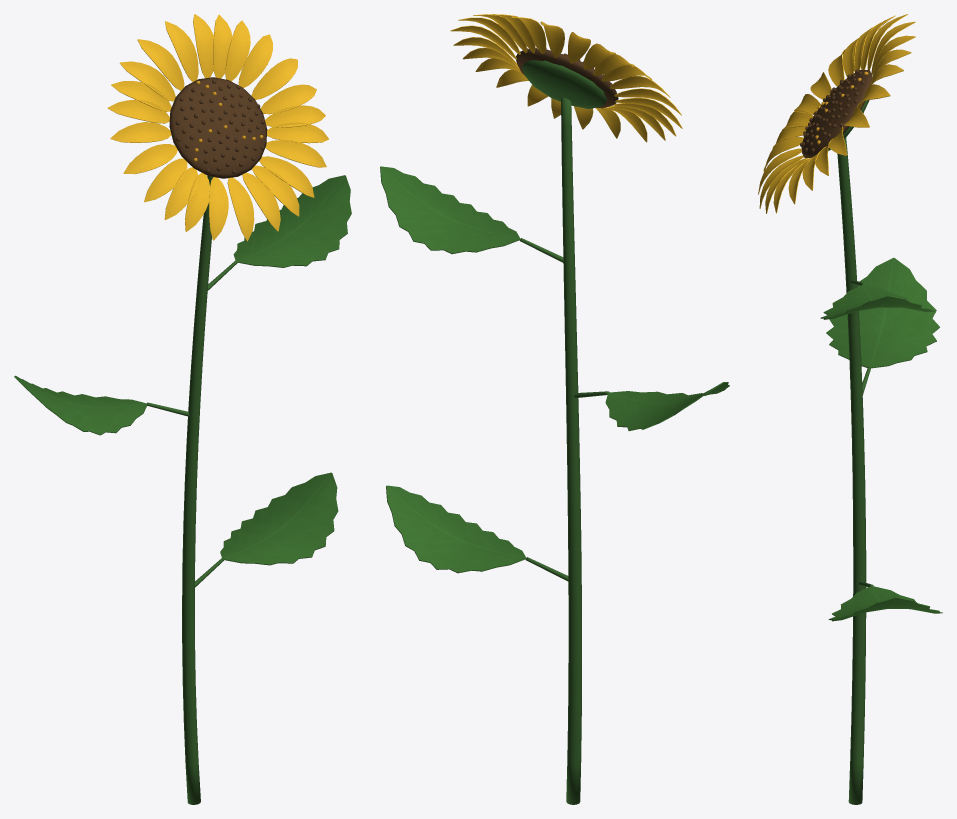
File: girasole.glb
3 renders of one model, left to right at view 1: azimuth 30°, elevation 25°; view 2: azimuth 150°, elevation 25°; view 3: azimuth 270°, elevation 25°, orthographic. The views are drawn at different scales.
Visible parts, largest first — view 1: Cut stem, Sunflower Composite convex disc receptacle, Sunflower broad leaf 1, Sunflower broad leaf 3, Sunflower broad leaf 2, Sunflower Sunflower finite ray floret 2, Sunflower Sunflower finite ray floret 11, Sunflower Sunflower finite ray floret 6, Sunflower Sunflower finite ray floret 12, Sunflower Sunflower finite ray floret 7, Sunflower Sunflower finite ray floret 23, Sunflower Sunflower finite ray floret 5 (+17 smaller); view 2: Cut stem, Sunflower broad leaf 1, Sunflower broad leaf 3, Sunflower broad leaf 2, Sunflower Fleshy attached receptacle, Sunflower Composite convex disc receptacle; view 3: Cut stem, Sunflower broad leaf 2, Sunflower Composite convex disc receptacle, Sunflower broad leaf 3, Sunflower broad leaf 1, Sunflower Sunflower finite ray floret 22, Sunflower Sunflower finite ray floret 13, Sunflower Sunflower finite ray floret 21, Sunflower Sunflower finite ray floret 12, Sunflower Sunflower finite ray floret 23, Sunflower Sunflower finite ray floret 11, Sunflower Sunflower finite ray floret 24 (+6 smaller).
Part boxes in pixels (left/top/right/bottom): Cut stem: left=182, top=175, right=213, bottom=804; Sunflower Composite convex disc receptacle: left=169, top=77, right=267, bottom=178; Sunflower broad leaf 1: left=220, top=472, right=338, bottom=565; Sunflower broad leaf 3: left=233, top=175, right=351, bottom=267; Sunflower broad leaf 2: left=14, top=375, right=147, bottom=435; Sunflower Sunflower finite ray floret 2: left=265, top=140, right=326, bottom=167; Sunflower Sunflower finite ray floret 11: left=165, top=21, right=198, bottom=81; Sunflower Sunflower finite ray floret 6: left=251, top=58, right=297, bottom=99; Sunflower Sunflower finite ray floret 12: left=137, top=39, right=184, bottom=90; Sunflower Sunflower finite ray floret 7: left=238, top=34, right=272, bottom=87; Sunflower Sunflower finite ray floret 23: left=242, top=172, right=280, bottom=231; Sunflower Sunflower finite ray floret 5: left=260, top=84, right=316, bottom=114; Cut stem: left=561, top=97, right=581, bottom=804; Sunflower broad leaf 1: left=386, top=485, right=526, bottom=573; Sunflower broad leaf 3: left=380, top=166, right=520, bottom=254; Sunflower broad leaf 2: left=605, top=382, right=729, bottom=430; Sunflower Fleshy attached receptacle: left=522, top=60, right=607, bottom=108; Sunflower Composite convex disc receptacle: left=516, top=48, right=618, bottom=108; Cut stem: left=837, top=137, right=866, bottom=804; Sunflower broad leaf 2: left=826, top=257, right=939, bottom=368; Sunflower Composite convex disc receptacle: left=801, top=70, right=872, bottom=157; Sunflower broad leaf 3: left=820, top=284, right=934, bottom=319; Sunflower broad leaf 1: left=828, top=586, right=942, bottom=621; Sunflower Sunflower finite ray floret 22: left=758, top=148, right=801, bottom=194; Sunflower Sunflower finite ray floret 13: left=860, top=15, right=895, bottom=69; Sunflower Sunflower finite ray floret 21: left=763, top=137, right=803, bottom=171; Sunflower Sunflower finite ray floret 12: left=867, top=14, right=907, bottom=69; Sunflower Sunflower finite ray floret 23: left=759, top=155, right=803, bottom=208; Sunflower Sunflower finite ray floret 11: left=871, top=21, right=915, bottom=75; Sunflower Sunflower finite ray floret 24: left=765, top=158, right=808, bottom=213.
Size of the model in its own units: 0.2853 by 0.63 by 0.1351.
5 materials, 5 textured.
